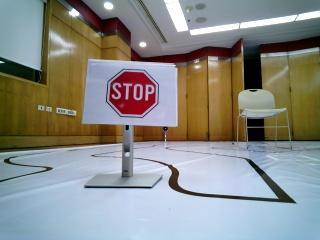stop: (92, 62, 172, 125)
